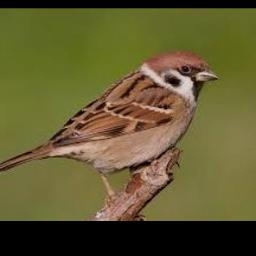Sparrow: (0, 52, 220, 195)
